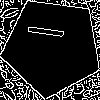I: (27, 22, 74, 42)
